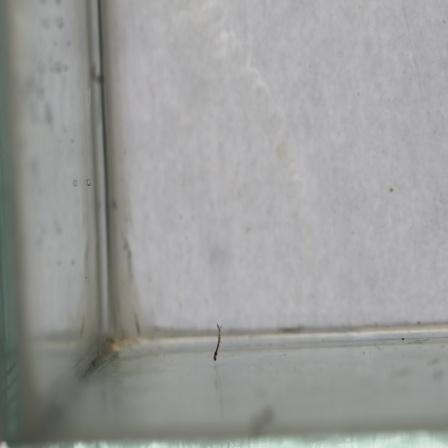Jentik-Nyamuk: (208, 323, 225, 363)
